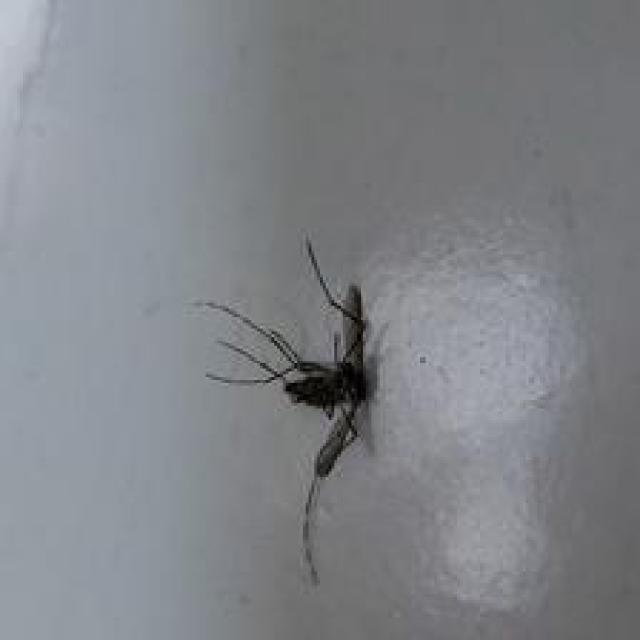Aedes albopictus: (193, 233, 376, 587)
